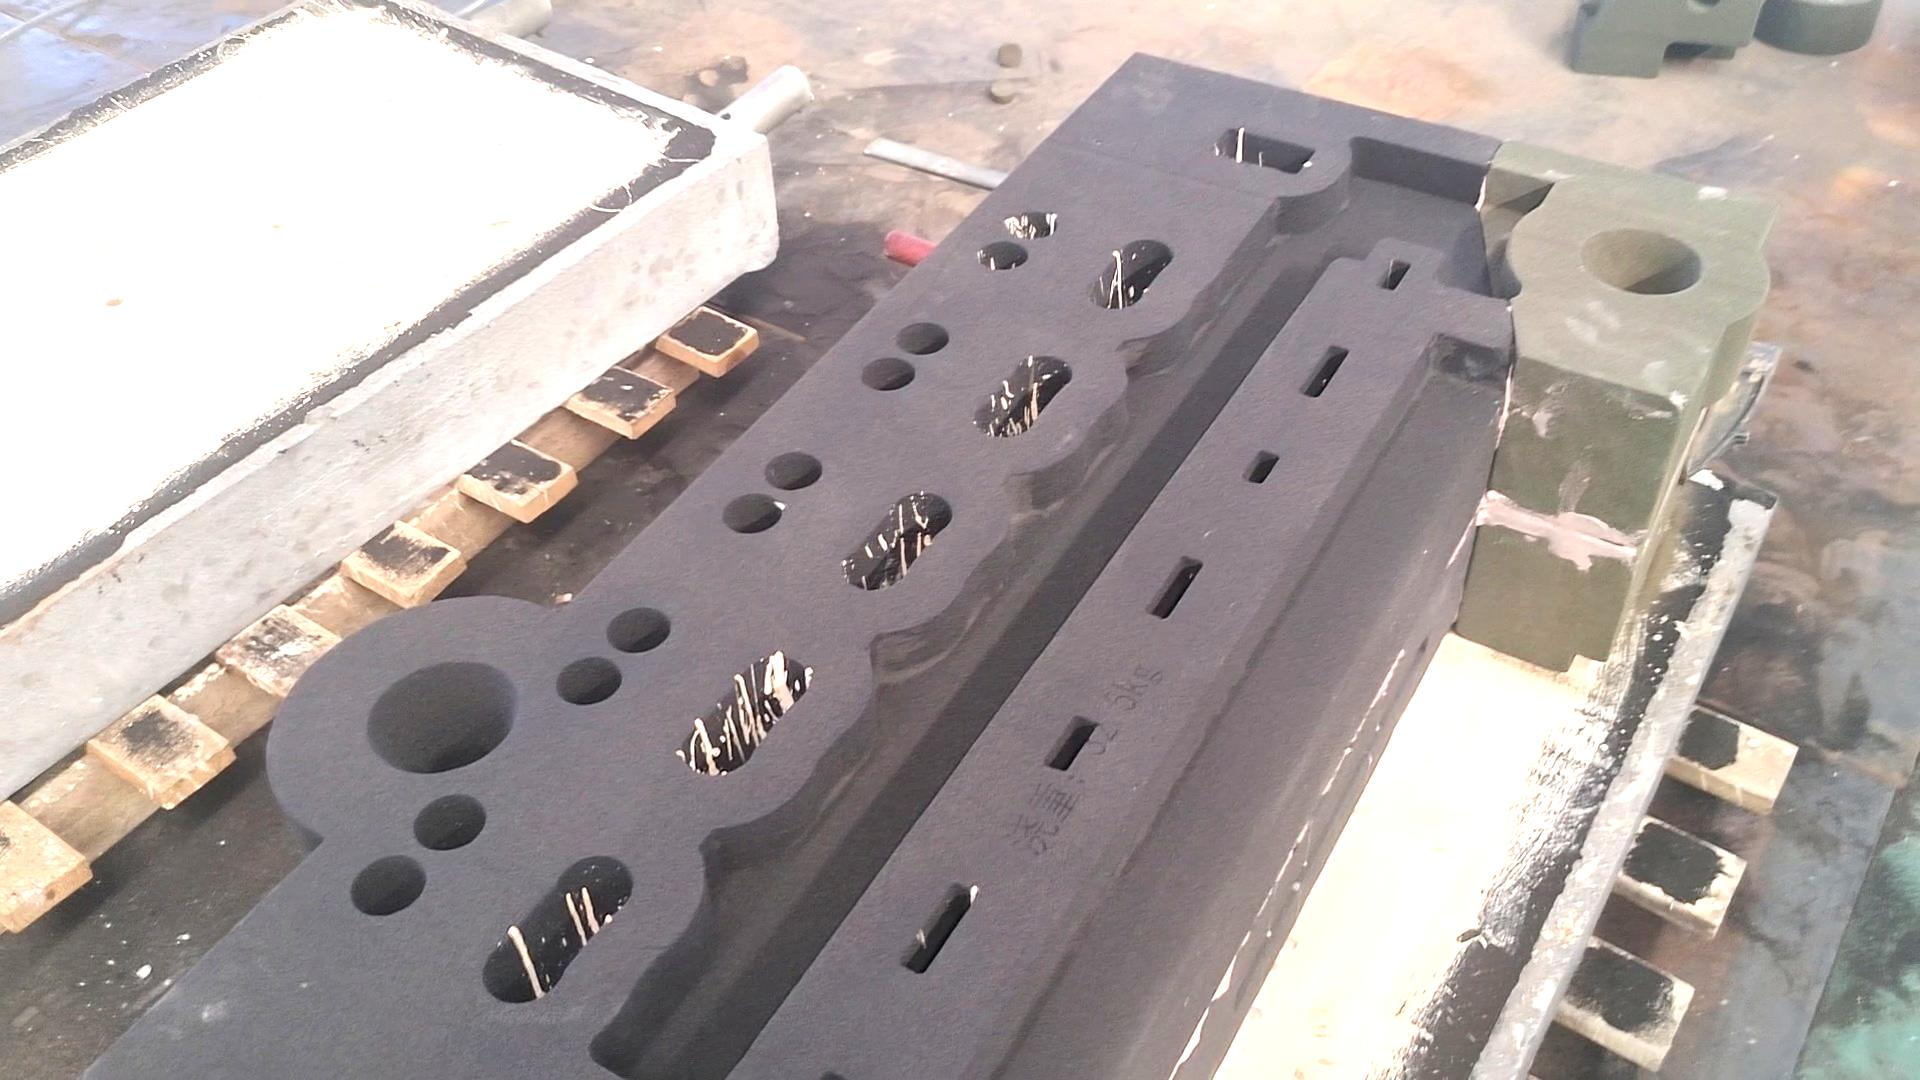pouring hole: (367, 659, 518, 775), (1581, 227, 1702, 295)
